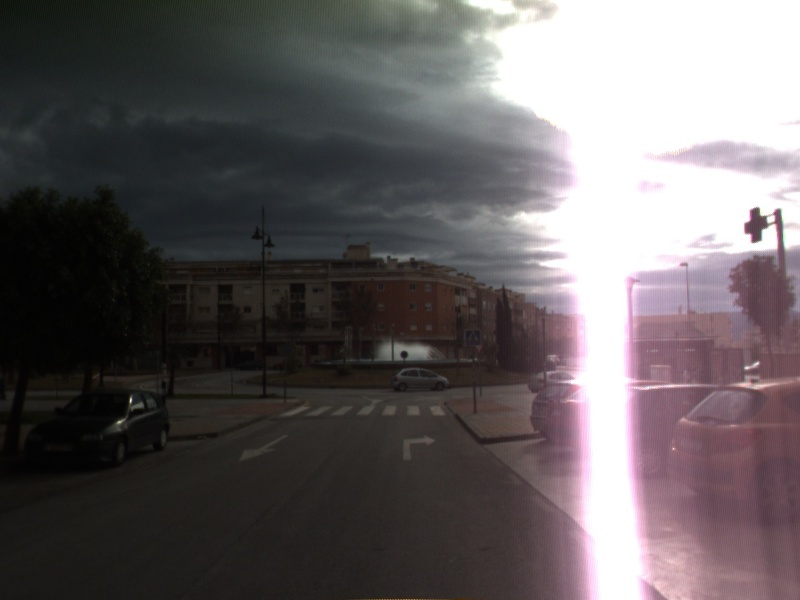RIGHT: (401, 432, 438, 462)
